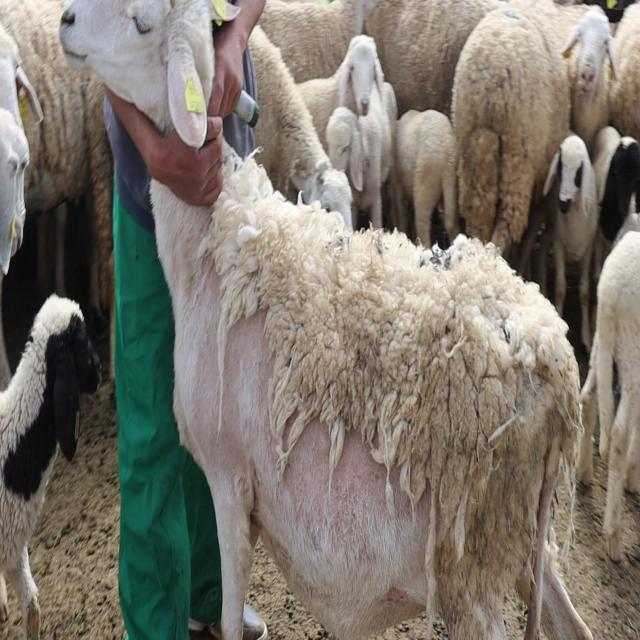Score_2: (150, 143, 592, 639)
